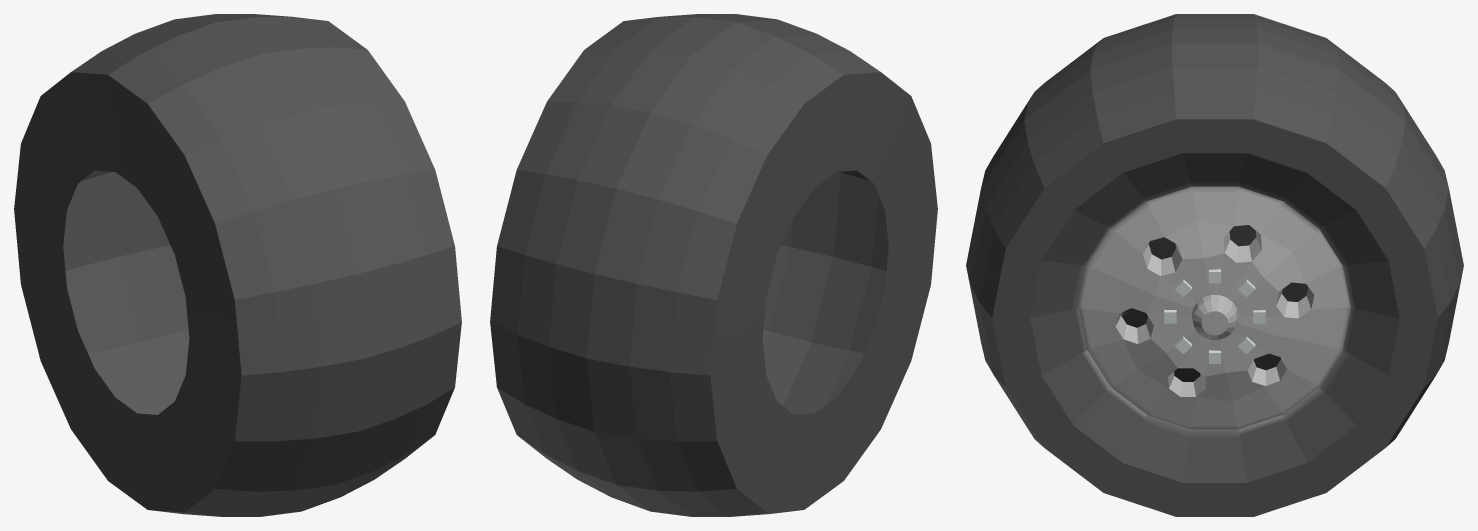
Rendered from Llanta.obj.
3 views of the same model, side by side, from view 1: azimuth 30°, elevation 25°; view 2: azimuth 150°, elevation 25°; view 3: azimuth 270°, elevation 25° (orthographic). The views are drawn at different scales.
Parts seen in each view (by area): view 1: Llanta; view 2: Llanta; view 3: Llanta.
Part boxes in pixels (x1=…): Llanta: x1=14, y1=14, x2=461, y2=516; Llanta: x1=490, y1=14, x2=937, y2=516; Llanta: x1=966, y1=14, x2=1463, y2=516.
Bounding box in the file's own units: 0.1242 × 0.2313 × 0.2348.
1 material, 1 textured.
